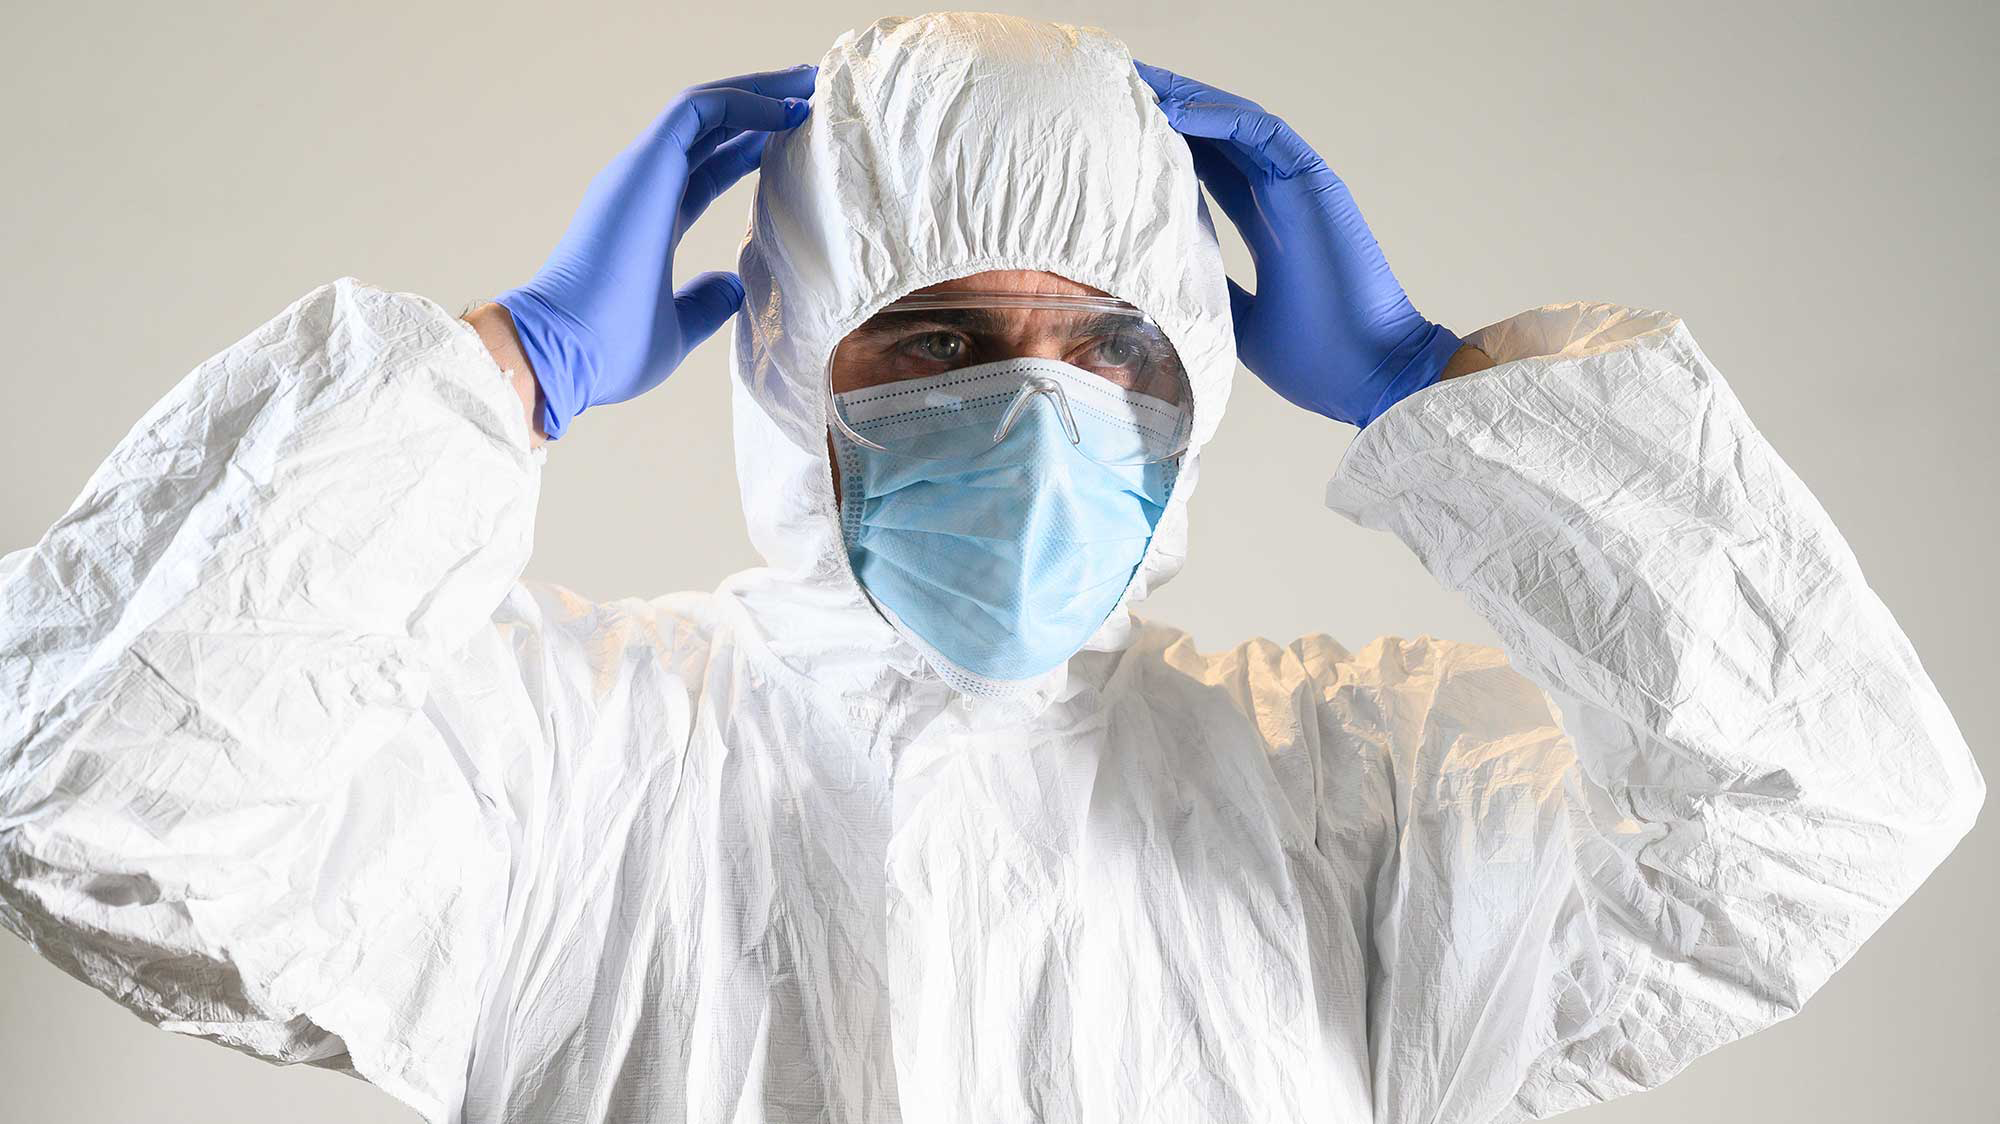Coverall: (4, 18, 1980, 1118)
Gloves: (416, 60, 822, 469), (1140, 67, 1497, 467)
Goggles: (827, 293, 1207, 478)
with_mask: (827, 333, 1178, 673)
